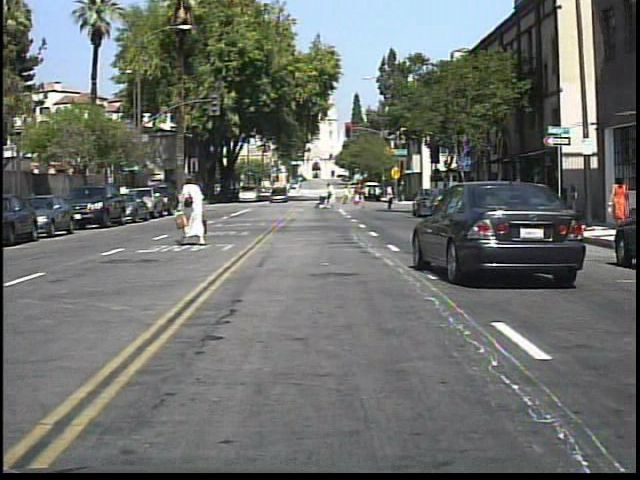person: (175, 168, 216, 251), (607, 167, 633, 228), (496, 170, 515, 219), (382, 181, 398, 212), (325, 180, 339, 210)
